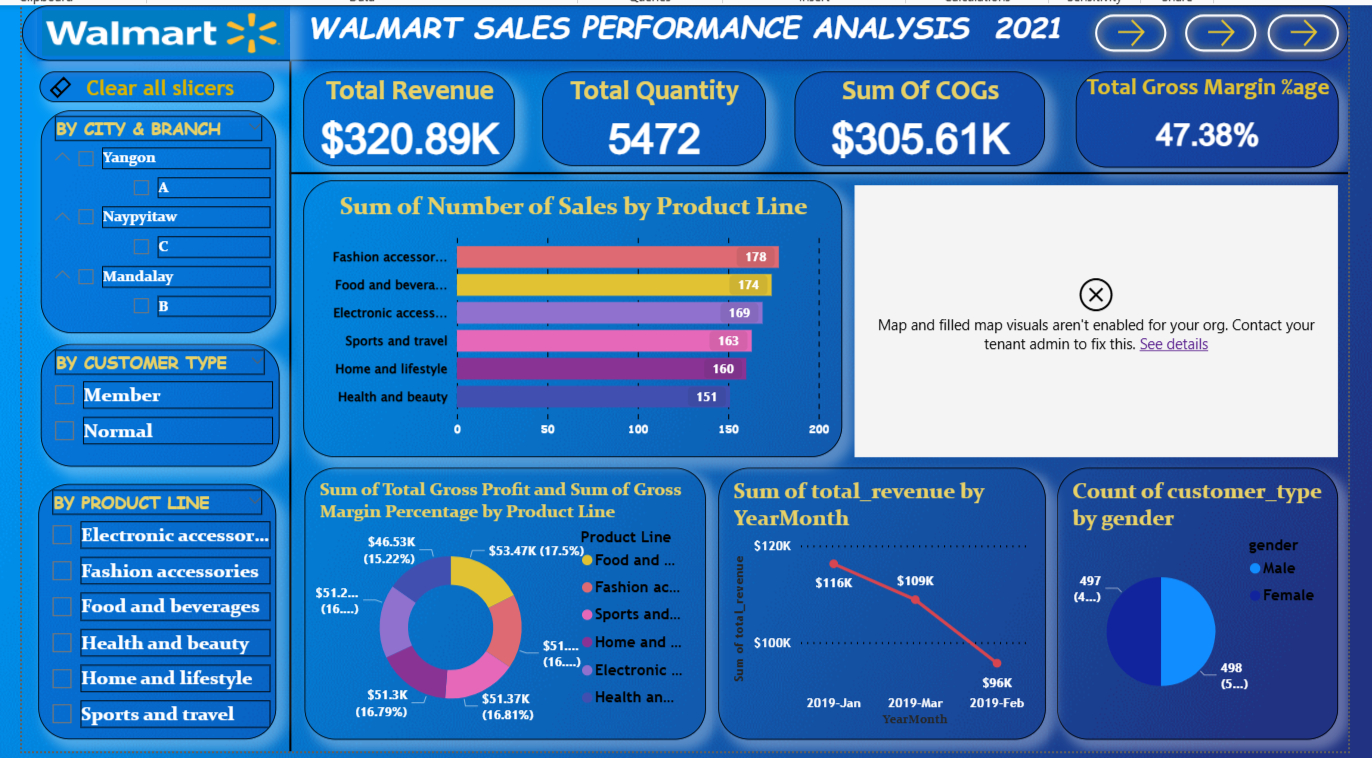

Layout of this report page (visuals, bound fields, positions):
{"tool":"powerbi","page":{"name":"OverView Section","canvas":[1280,720],"ordinal":0},"visuals":[{"type":"textbox","title":"    WALMART SALES PERFORMANCE ANALYSIS  2021","box":[0,0,1280,53.8],"z":0},{"type":"card","title":"Total Revenue ","fields":{"Values":["Sum(salesdatawalmart sales.total_revenue)"]},"box":[271.4,64.3,204.3,91.4],"z":1000},{"type":"card","title":"Total Gross Margin %age","fields":{"Values":["Sum(salesdatawalmart sales.Gross Margin Percentage)"]},"box":[1016.2,63.8,253.8,92.5],"z":2000},{"type":"card","title":"Total Quantity","fields":{"Values":["Sum(salesdatawalmart sales.quantity)"]},"box":[501.4,64.3,215.7,91.4],"z":3000},{"type":"card","title":"Sum Of COGs","fields":{"Values":["Sum(salesdatawalmart sales.cogs)"]},"box":[745.7,64.3,241.4,91.4],"z":4000},{"type":"shape","box":[245.7,54.3,25.7,665.7],"z":5000},{"type":"slicer","fields":{"Values":["salesdatawalmart sales.customer_type"]},"box":[18.6,327.1,230,118.6],"z":6000},{"type":"slicer","title":"By","fields":{"Values":["salesdatawalmart sales.product_line"]},"box":[15.2,462.4,229.9,246.4],"z":7000},{"type":"shape","box":[258.6,155.7,1021.4,12.9],"z":8000},{"type":"barChart","title":"Sum of Number of Sales by Product Line","fields":{"Category":["salesdatawalmart sales.product_line"],"Y":["Sum(salesdatawalmart sales.Number of Sales)"]},"box":[271.2,168.8,520,267.5],"z":9000},{"type":"map","fields":{"Series":["salesdatawalmart sales.branch"],"Category":["salesdatawalmart sales.city"]},"box":[803.8,173.8,466.2,262.5],"z":10000},{"type":"donutChart","title":"Sum of Total Gross Profit and Sum of Gross Margin Percentage by Product Line","fields":{"Y":["Sum(salesdatawalmart sales.Total Gross Profit)"],"Category":["salesdatawalmart sales.product_line"]},"box":[272.5,446.2,387.5,262.5],"z":11000},{"type":"pieChart","fields":{"Category":["salesdatawalmart sales.gender"],"Y":["CountNonNull(salesdatawalmart sales.customer_type)"]},"box":[998.8,446.2,271.2,262.5],"z":12000},{"type":"image","box":[15,0,243.8,53.8],"z":13000},{"type":"lineChart","fields":{"Category":["salesdatawalmart sales.YearMonth"],"Y":["Sum(salesdatawalmart sales.total)"]},"box":[671.2,446.2,316.2,262.5],"z":14000},{"type":"actionButton","box":[17.1,63.6,226.1,29.3],"z":15000},{"type":"slicer","fields":{"Values":["salesdatawalmart sales.city","salesdatawalmart sales.branch"]},"box":[18.3,101.5,227.4,215.1],"z":16000},{"type":"actionButton","box":[1026.8,0,86.8,53.8],"z":17000},{"type":"actionButton","box":[1113.6,0,86.8,53.8],"z":18000},{"type":"actionButton","box":[1193.1,0,86.8,53.8],"z":19000}]}

Visuals, with their boxes on the page's 1280x720 design canvas (x1, y1, x2, y2). These are canvas units, not pixel positions in the 1372x758 screenshot, which may show the page scaled, cropped or inside an application window:
"    WALMART SALES PERFORMANCE ANALYSIS  2021" textbox: Rect(0, 0, 1280, 54)
"Total Revenue " card: Rect(271, 64, 476, 156)
"Total Gross Margin %age" card: Rect(1016, 64, 1270, 156)
"Total Quantity" card: Rect(501, 64, 717, 156)
"Sum Of COGs" card: Rect(746, 64, 987, 156)
shape: Rect(246, 54, 271, 720)
slicer - salesdatawalmart sales.customer_type: Rect(19, 327, 249, 446)
"By" slicer: Rect(15, 462, 245, 709)
shape: Rect(259, 156, 1280, 169)
"Sum of Number of Sales by Product Line" barChart: Rect(271, 169, 791, 436)
map - salesdatawalmart sales.branch x salesdatawalmart sales.city: Rect(804, 174, 1270, 436)
"Sum of Total Gross Profit and Sum of Gross Margin Percentage by Product Line" donutChart: Rect(272, 446, 660, 709)
pieChart - salesdatawalmart sales.gender x CountNonNull(salesdatawalmart sales.customer_type): Rect(999, 446, 1270, 709)
image: Rect(15, 0, 259, 54)
lineChart - salesdatawalmart sales.YearMonth x Sum(salesdatawalmart sales.total): Rect(671, 446, 987, 709)
actionButton: Rect(17, 64, 243, 93)
slicer - salesdatawalmart sales.city x salesdatawalmart sales.branch: Rect(18, 102, 246, 317)
actionButton: Rect(1027, 0, 1114, 54)
actionButton: Rect(1114, 0, 1200, 54)
actionButton: Rect(1193, 0, 1280, 54)
